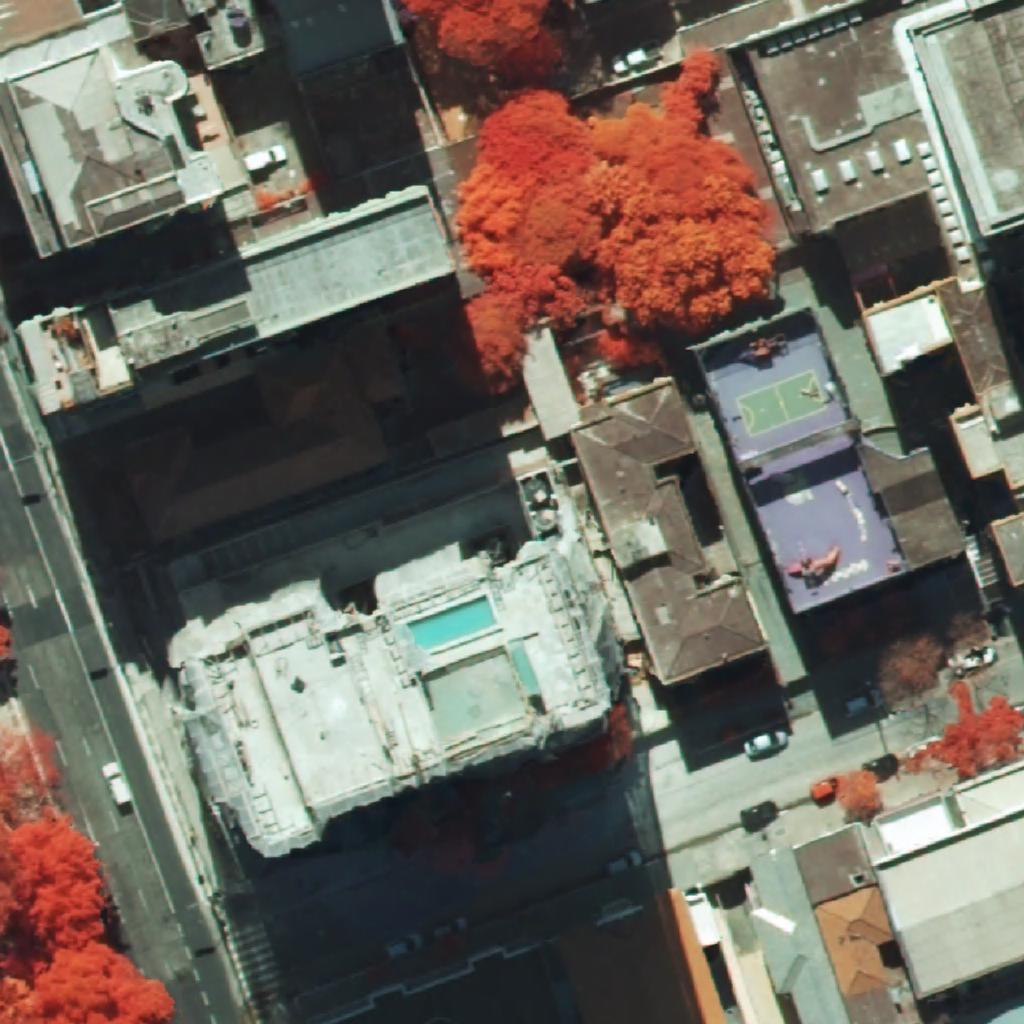pool: (407, 596, 496, 651)
